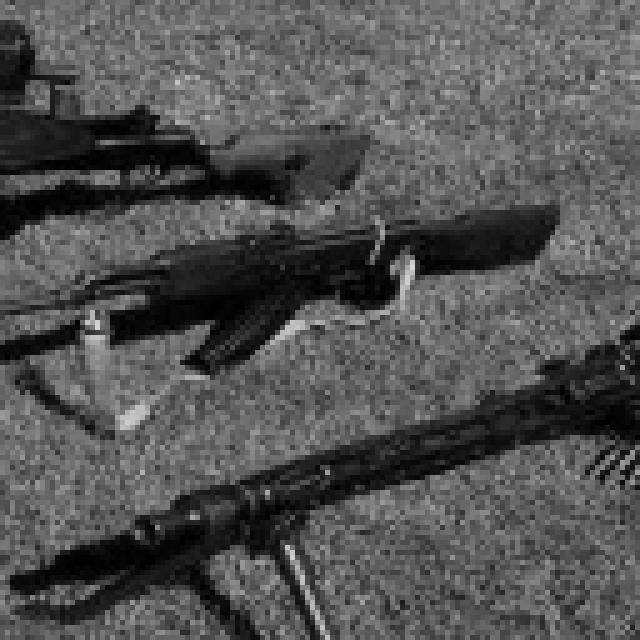Rifle: (0, 297, 640, 640), (0, 174, 555, 438), (0, 85, 385, 225), (0, 0, 111, 113)
